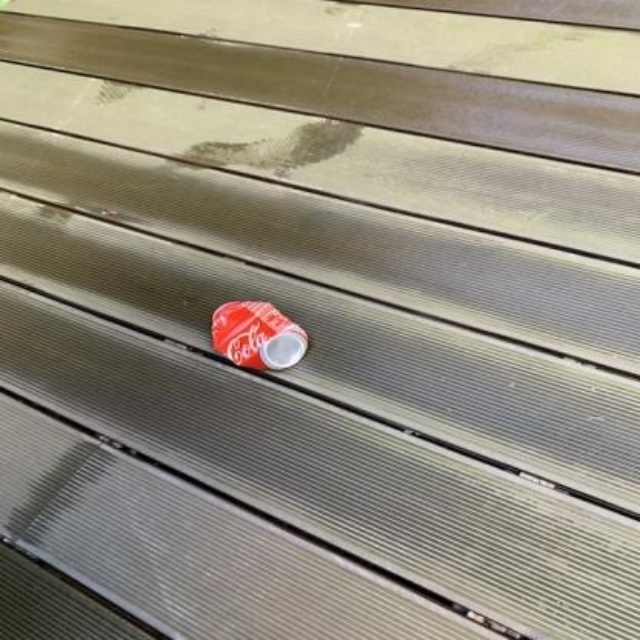trash: (212, 302, 306, 368)
